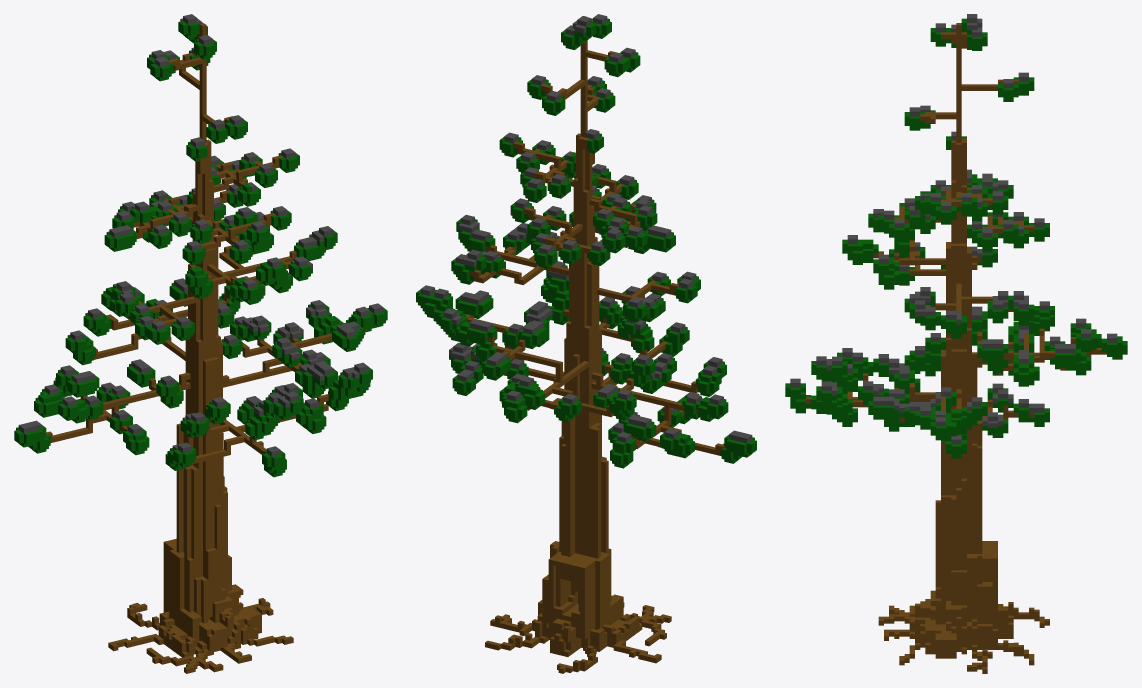
Rendered from PineTree-1.obj.
3 renders of one model, left to right at view 1: azimuth 30°, elevation 25°; view 2: azimuth 150°, elevation 25°; view 3: azimuth 270°, elevation 25°, orthographic.
Bounding box in the file's own units: 7.8 × 13.1 × 6.6.
Materials: 1 (1 with a texture image).
